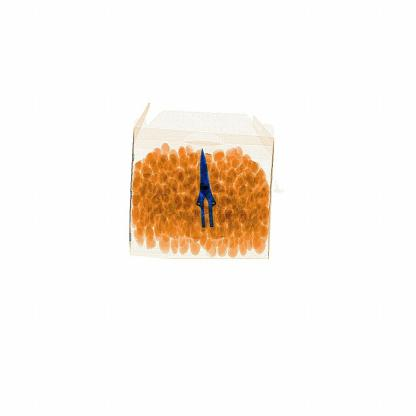gun: (184, 137, 238, 250)
